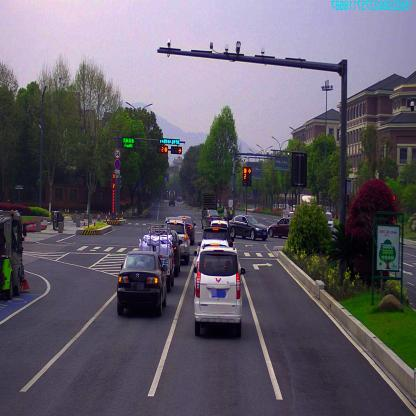traffic-light: (159, 138, 180, 144), (170, 146, 182, 154), (157, 146, 169, 153)
